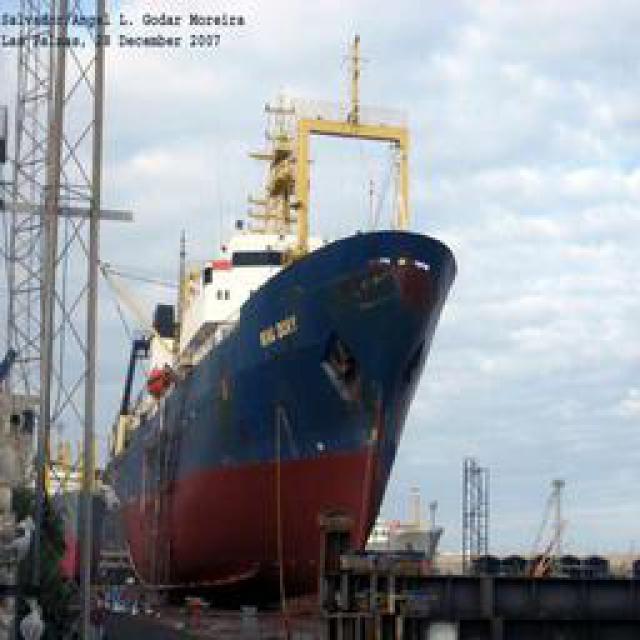Ship: (116, 220, 469, 610)
